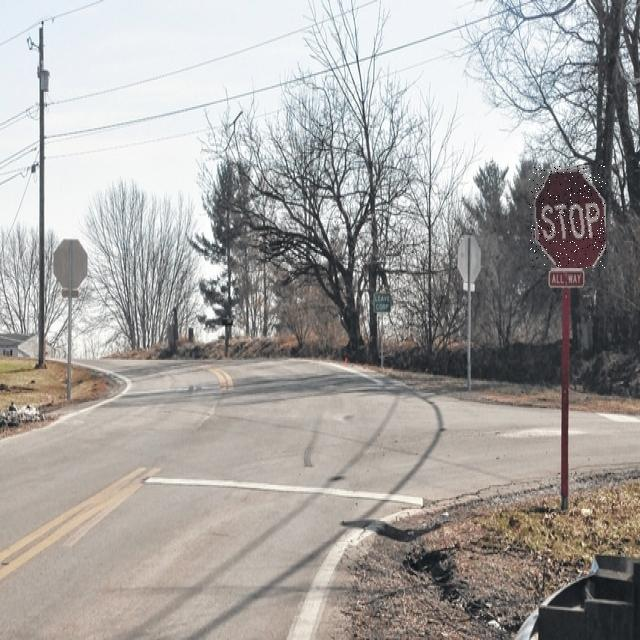stop: (529, 165, 606, 268)
